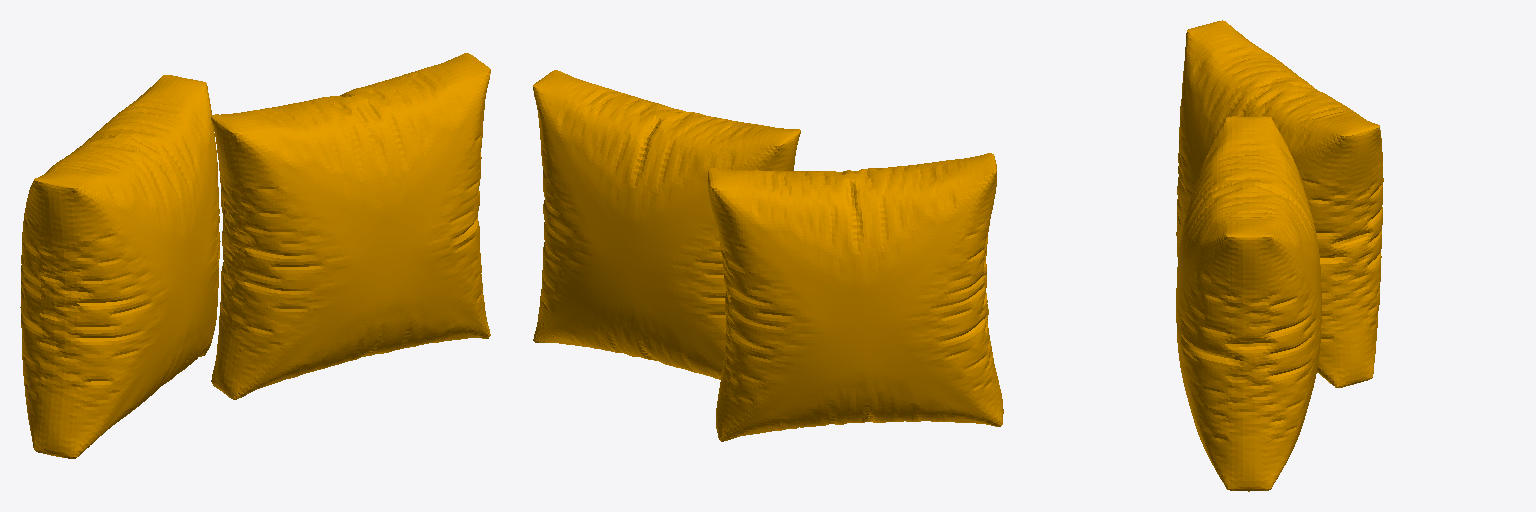
URDF robot description (none):
<robot name="none">
       <link name="none">
           <visual>
               <origin rpy="0 0 0 " xyz="0 0 0"/>
               <geometry>
                   <mesh filename="Pillow OBJ.obj" scale="0.4 0.4 0.4"/>
               </geometry>
           </visual>
          <collision>
<origin rpy="1.57 0 0" xyz="0 0 0.25" />
              <geometry>
                  <box size="0.5008703 1.000000 0.508704" />
              </geometry>
          </collision>

          <inertial>
            <mass value="0.0" />
            <inertia ixx="0.01" ixy="0.0" ixz="0.0" iyy="0.01" iyz="0.0" izz="0.01"/>
          </inertial>
      </link>
  </robot>

--- What the picture shows (computed from the rendered views, not written in the file) ---
The picture shows the robot from 3 angles, left to right: view 1: azimuth 30°, elevation 25°; view 2: azimuth 150°, elevation 25°; view 3: azimuth 270°, elevation 25°; orthographic projection.
Model none with 1 links and 0 joints (none), rooted at none, posed all joints at 0.
Visible links, largest first — view 1: none; view 2: none; view 3: none.
Link boxes in pixels (left/top/right/bottom): none: left=20, top=53, right=490, bottom=458; none: left=533, top=70, right=1003, bottom=441; none: left=1176, top=20, right=1383, bottom=491.
Size in the robot's own frame: 1.38 by 0.5618 by 0.7918 metres.
1 mesh visuals loaded from 1 distinct referenced files (1 OBJ).